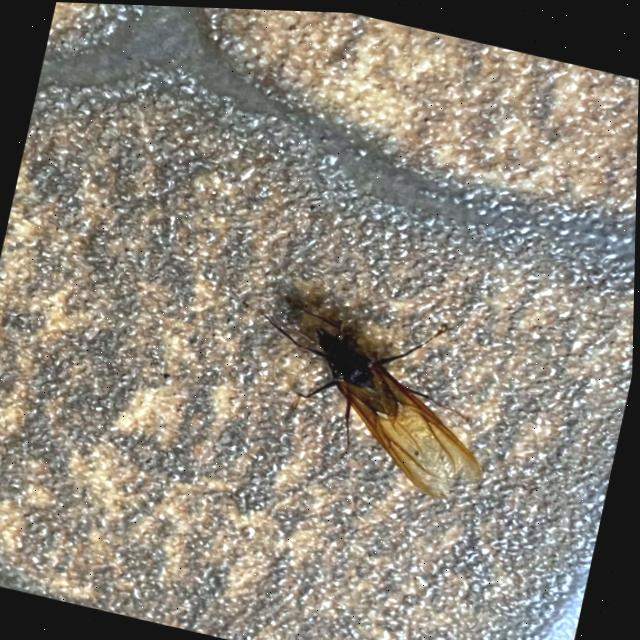Alive-Male-Alate: (221, 280, 515, 505)
